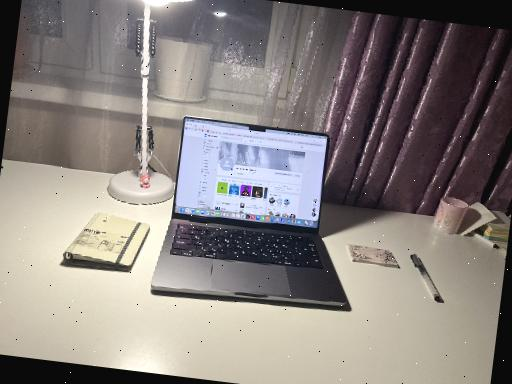vk: (176, 130, 326, 219)
